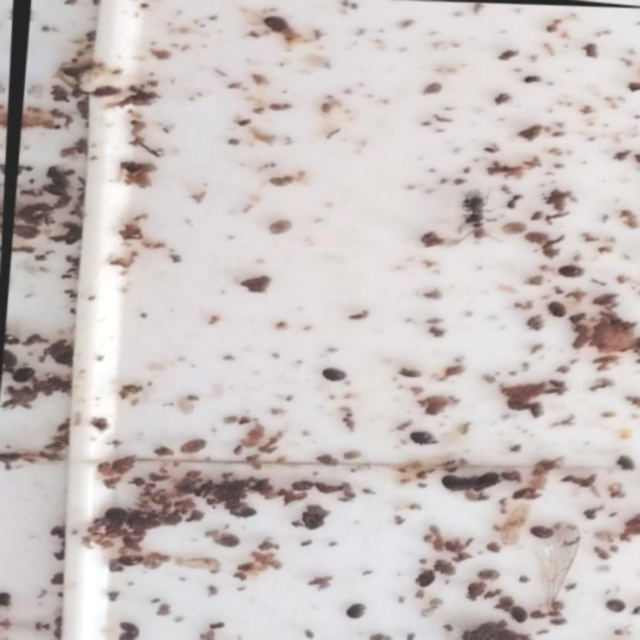varroa: (401, 424, 440, 447), (257, 8, 292, 32), (227, 498, 260, 519), (318, 361, 349, 382), (8, 360, 37, 380), (553, 261, 585, 279), (439, 470, 465, 492), (211, 526, 241, 545), (100, 499, 130, 518), (506, 600, 529, 624), (116, 546, 145, 565), (526, 520, 554, 539), (414, 564, 437, 587), (545, 295, 568, 318), (115, 615, 144, 632), (611, 452, 634, 472), (343, 599, 368, 617), (602, 594, 625, 613)
